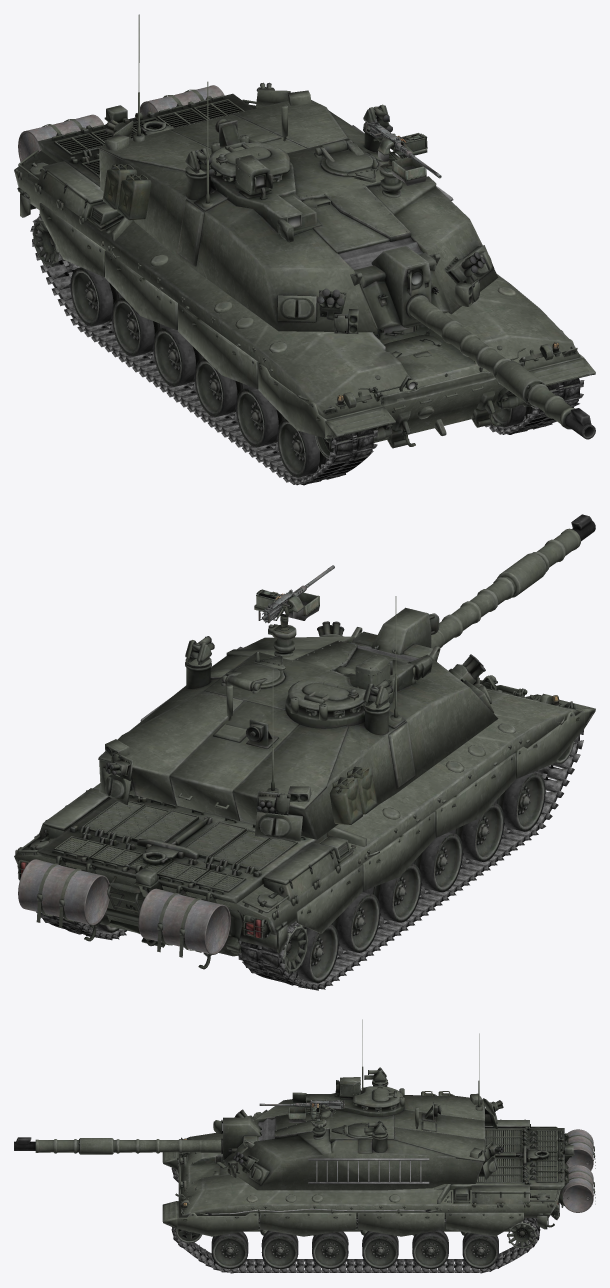
The model's file is chall2.glb.
The picture shows the model from 3 angles, top to bottom: view 1: azimuth 30°, elevation 25°; view 2: azimuth 150°, elevation 25°; view 3: azimuth 270°, elevation 25°; orthographic projection. The views are drawn at different scales.
Visible parts, largest first — view 1: challendger 2, truck.001; view 2: challendger 2, truck.001; view 3: challendger 2, truck.001.
Boxes of the visible parts, x1,y1,x2,y2 form: challendger 2: (14, 14, 595, 477); truck.001: (30, 214, 584, 485); challendger 2: (14, 514, 595, 983); truck.001: (36, 729, 583, 990); challendger 2: (14, 1019, 595, 1269); truck.001: (171, 1159, 540, 1273).
Size of the model in its own units: 3.57 by 4.04 by 11.2.
3 materials, 3 textured.
